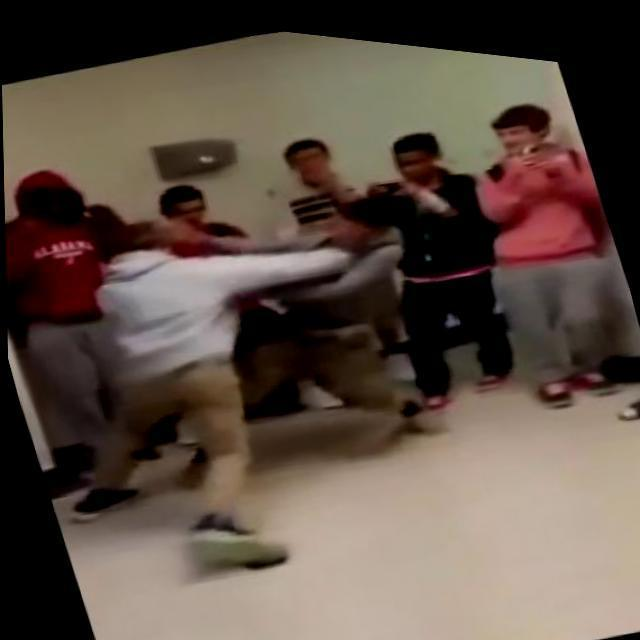fight: (61, 134, 482, 590)
